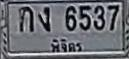3: (93, 4, 104, 28)
5: (78, 5, 90, 30)
6: (65, 5, 75, 30)
7: (107, 4, 118, 30)
A01: (18, 6, 33, 31)
A07: (37, 6, 49, 31)
PCT: (48, 38, 85, 53)
